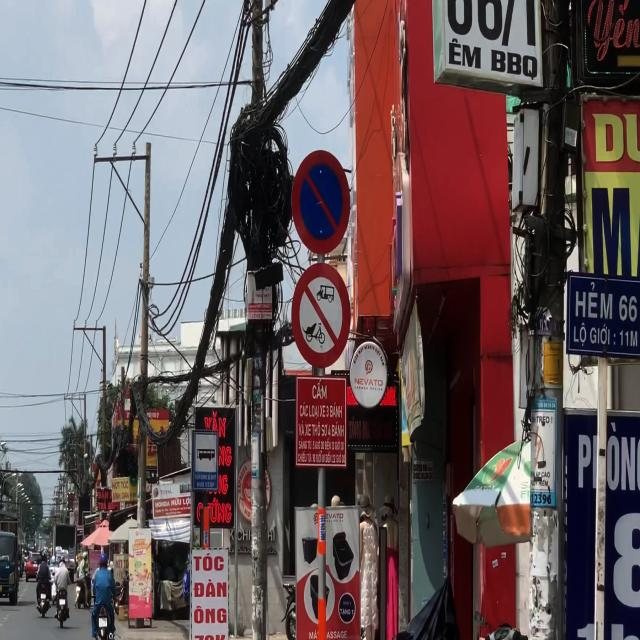Ben xe buyt: (192, 430, 219, 492)
Cam con lai: (292, 262, 350, 368)
Cam do: (292, 147, 352, 257)
